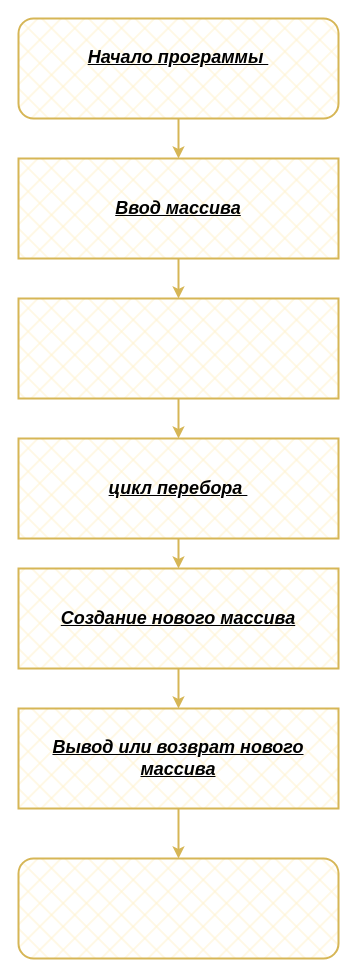
The diagram is 356 pixels wide and 976 high, and some of its shapes have lost their labels. Each missing label, with the centre of its shape:
"Инициализация нового массива" belongs at (x=178, y=348).
"Конецпрограммы" belongs at (x=178, y=908).
